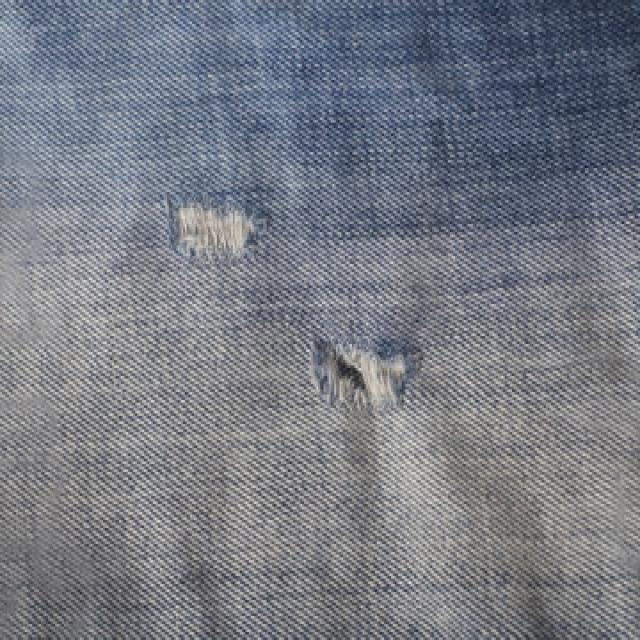Hole: (311, 338, 421, 415), (166, 193, 266, 262)
